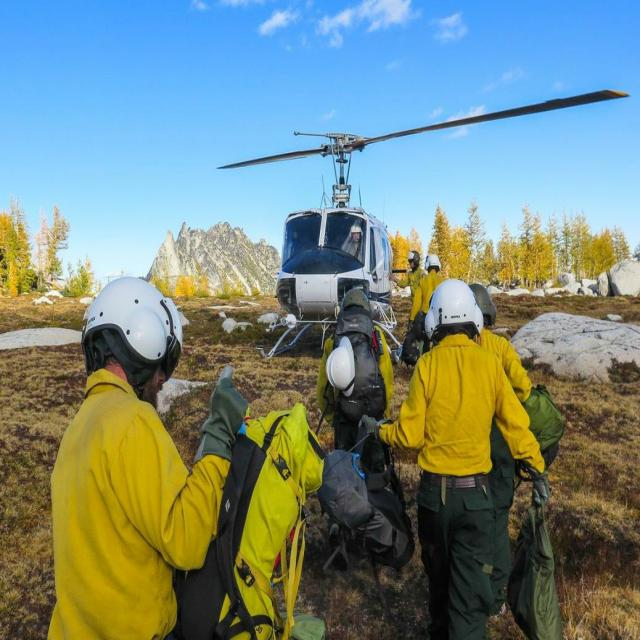helicopter: (223, 93, 620, 356)
